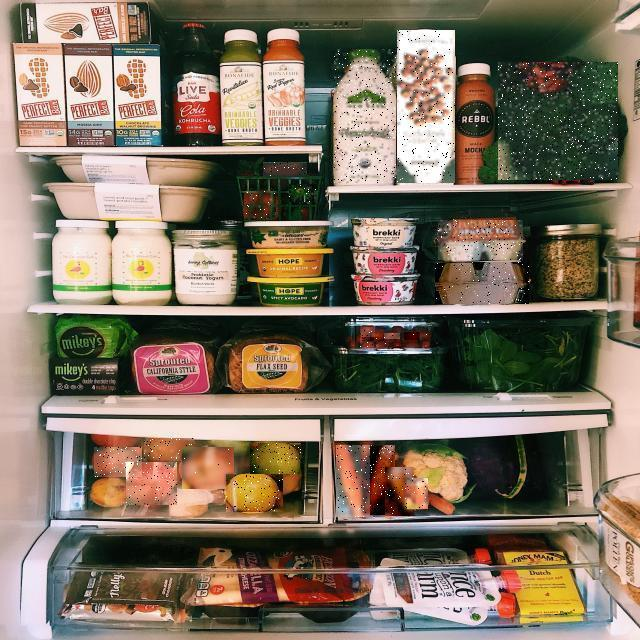Apple: (126, 462, 177, 505), (182, 447, 234, 489), (250, 443, 301, 474), (94, 447, 142, 477), (144, 439, 194, 461)
Broccoli: (498, 63, 618, 181)
Carrot: (336, 445, 370, 517), (362, 445, 395, 515), (386, 467, 416, 516), (408, 478, 428, 509)
Eggs: (435, 262, 529, 304), (438, 220, 523, 260)
Lemon: (226, 474, 283, 512)
Milk: (397, 30, 455, 183), (334, 49, 396, 183)
Straw Berry: (244, 191, 276, 218), (263, 162, 307, 177), (290, 184, 318, 202)
Tomato Paste: (361, 327, 375, 337), (384, 334, 400, 342), (371, 332, 385, 341), (404, 332, 419, 340), (360, 341, 374, 348), (420, 331, 430, 340), (377, 342, 389, 349), (392, 342, 403, 348)
